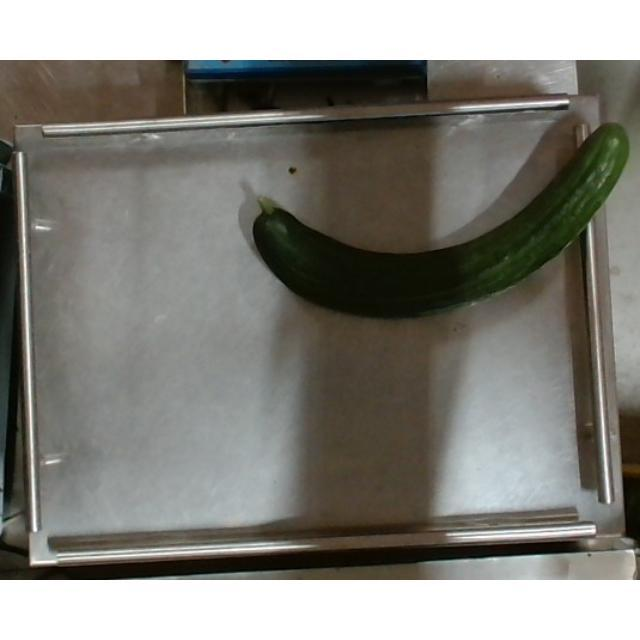cucumber: (252, 120, 630, 318)
